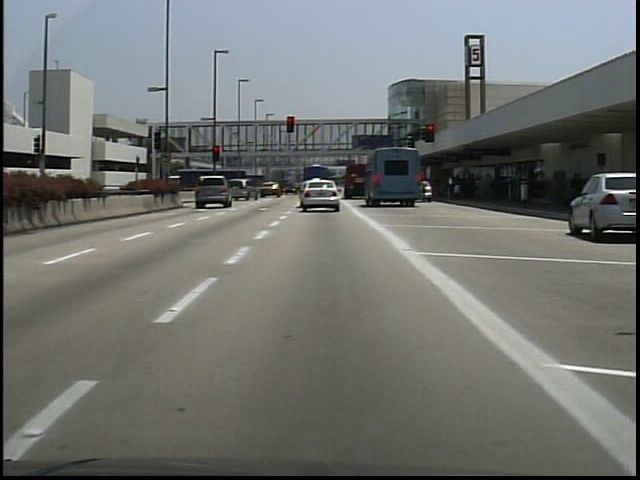person: (566, 169, 586, 223)
